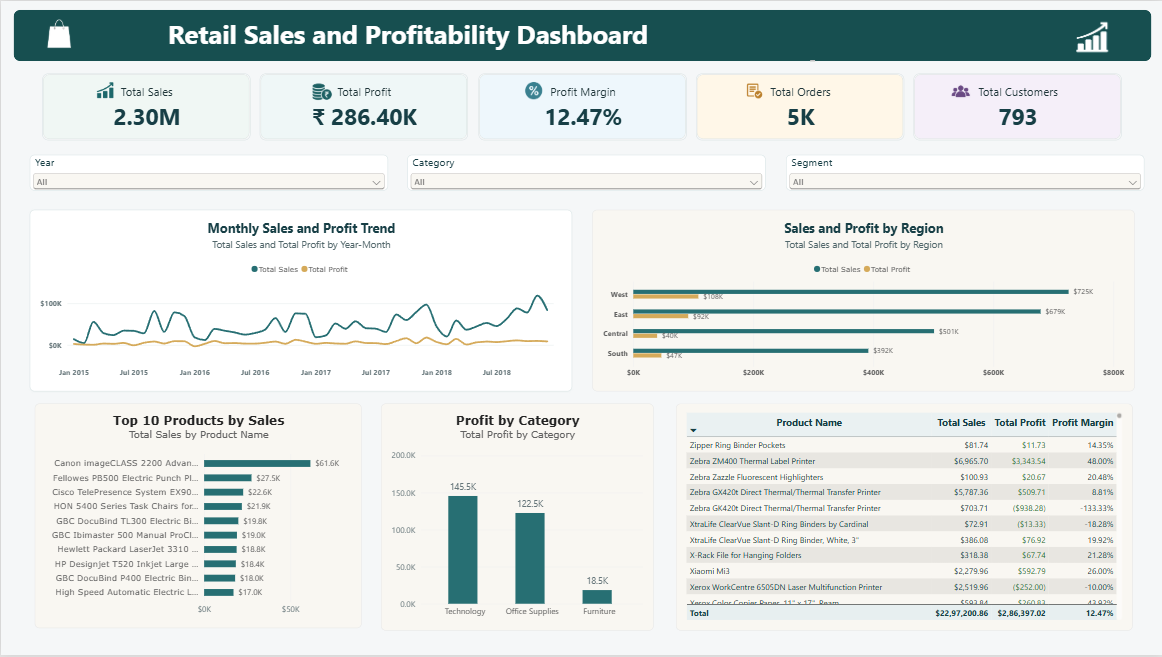

What the dashboard file says about the page in this screenshot:
{"tool":"powerbi","page":{"name":"Sales Dashboard","canvas":[1920,1080],"ordinal":0},"visuals":[{"type":"cardVisual","fields":{"Data":["SalesData.Total Sales"]},"box":[68,120,344,110],"z":0},{"type":"cardVisual","fields":{"Data":["SalesData.Total Profit"]},"box":[428,120,344,110],"z":1000},{"type":"cardVisual","fields":{"Data":["SalesData.Overall Profit Margin"]},"box":[788,120,344,110],"z":2000},{"type":"cardVisual","fields":{"Data":["SalesData.Total Orders"]},"box":[1148,120,344,110],"z":3000},{"type":"cardVisual","fields":{"Data":["SalesData.Total Customers"]},"box":[1508,120,344,110],"z":4000},{"type":"lineChart","title":"Monthly Sales and Profit Trend","fields":{"Y":["SalesData.Total Sales","SalesData.Total Profit"],"Category":["SalesData.Year-Month"]},"box":[48,345,896,300],"z":5000},{"type":"clusteredColumnChart","title":"Profit by Category","fields":{"Category":["SalesData.Category"],"Y":["SalesData.Total Profit"]},"box":[628,665,450,375],"z":6000},{"type":"clusteredBarChart","title":"Sales and Profit by Region","fields":{"Category":["SalesData.Region"],"Y":["SalesData.Total Sales","SalesData.Total Profit"]},"box":[976,345,896,300],"z":7000},{"type":"slicer","title":"year","fields":{"Values":["SalesData.Year"]},"box":[48,255,592,59],"z":8000},{"type":"clusteredBarChart","title":"Top 10 Products by Sales","fields":{"Category":["SalesData.Product Name"],"Y":["SalesData.Total Sales"]},"box":[56,665,540,371],"z":9000},{"type":"slicer","title":"Category","fields":{"Values":["SalesData.Category"]},"box":[672,255,592,59],"z":10000},{"type":"slicer","fields":{"Values":["SalesData.Segment"]},"box":[1296,255,592,59],"z":11000},{"type":"tableEx","fields":{"Values":["SalesData.Product Name","SalesData.Total Sales","SalesData.Total Profit","SalesData.Overall Profit Margin"]},"box":[1114.6,664.6,754,375],"z":12000},{"type":"shape","box":[20,15,1880,85],"z":13000},{"type":"textbox","title":"Retail Sales and Profitability Dashboard","box":[0,24.5,1345,75],"z":14000},{"type":"image","box":[55.7,21.4,80.7,72.1],"z":15000},{"type":"image","box":[1737.5,0,132.5,124],"z":16000},{"type":"image","box":[151.2,125,42,42],"z":17000},{"type":"image","box":[507.5,125,42,42],"z":18000},{"type":"image","box":[852.8,126,51.6,41.3],"z":19000},{"type":"image","box":[1222.5,128.8,42,42],"z":20000},{"type":"image","box":[1562.5,128.8,42,42],"z":21000}]}

Visuals, with their boxes in screenshot pixels (x1, y1, x2, y2), scaled from the page's 1920x1080 canvas onto the 1162x657 screenshot:
cardVisual - SalesData.Total Sales: Rect(41, 73, 249, 140)
cardVisual - SalesData.Total Profit: Rect(259, 73, 467, 140)
cardVisual - SalesData.Overall Profit Margin: Rect(477, 73, 685, 140)
cardVisual - SalesData.Total Orders: Rect(695, 73, 903, 140)
cardVisual - SalesData.Total Customers: Rect(913, 73, 1121, 140)
"Monthly Sales and Profit Trend" lineChart: Rect(29, 210, 571, 392)
"Profit by Category" clusteredColumnChart: Rect(380, 405, 652, 633)
"Sales and Profit by Region" clusteredBarChart: Rect(591, 210, 1133, 392)
"year" slicer: Rect(29, 155, 387, 191)
"Top 10 Products by Sales" clusteredBarChart: Rect(34, 405, 361, 630)
"Category" slicer: Rect(407, 155, 765, 191)
slicer - SalesData.Segment: Rect(784, 155, 1143, 191)
tableEx - SalesData.Product Name x SalesData.Total Sales: Rect(675, 404, 1131, 632)
shape: Rect(12, 9, 1150, 61)
"Retail Sales and Profitability Dashboard" textbox: Rect(0, 15, 814, 61)
image: Rect(34, 13, 83, 57)
image: Rect(1052, 0, 1132, 75)
image: Rect(92, 76, 117, 102)
image: Rect(307, 76, 333, 102)
image: Rect(516, 77, 547, 102)
image: Rect(740, 78, 765, 104)
image: Rect(946, 78, 971, 104)
